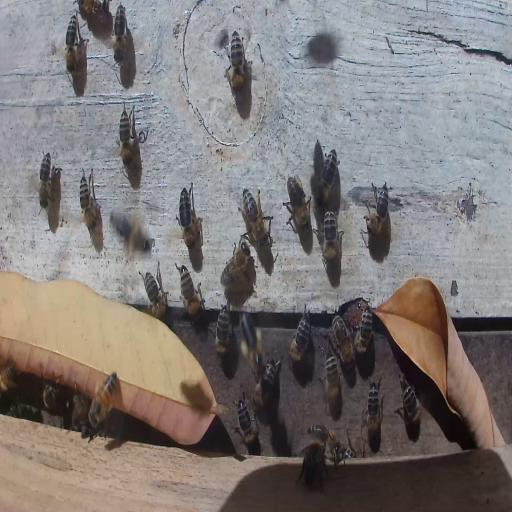nonpollenbee: (110, 209, 151, 255), (240, 187, 271, 245), (88, 372, 118, 430), (297, 436, 327, 492), (364, 180, 390, 240), (285, 174, 311, 233), (315, 145, 339, 206), (177, 184, 199, 250), (222, 235, 250, 285), (288, 304, 311, 364), (236, 396, 260, 453), (398, 378, 423, 430), (142, 263, 168, 313), (178, 266, 202, 320), (81, 169, 99, 237), (118, 101, 136, 169), (354, 300, 374, 360), (321, 350, 342, 407), (332, 316, 355, 368), (229, 30, 247, 96), (212, 304, 232, 360), (365, 376, 383, 438), (256, 362, 280, 406), (112, 4, 127, 63), (307, 422, 338, 446), (65, 14, 77, 74), (39, 150, 51, 208), (71, 391, 88, 431), (0, 364, 18, 394), (42, 382, 60, 412), (252, 382, 270, 409), (15, 402, 41, 418), (333, 444, 356, 462)
pollenbee: (240, 311, 264, 377)
